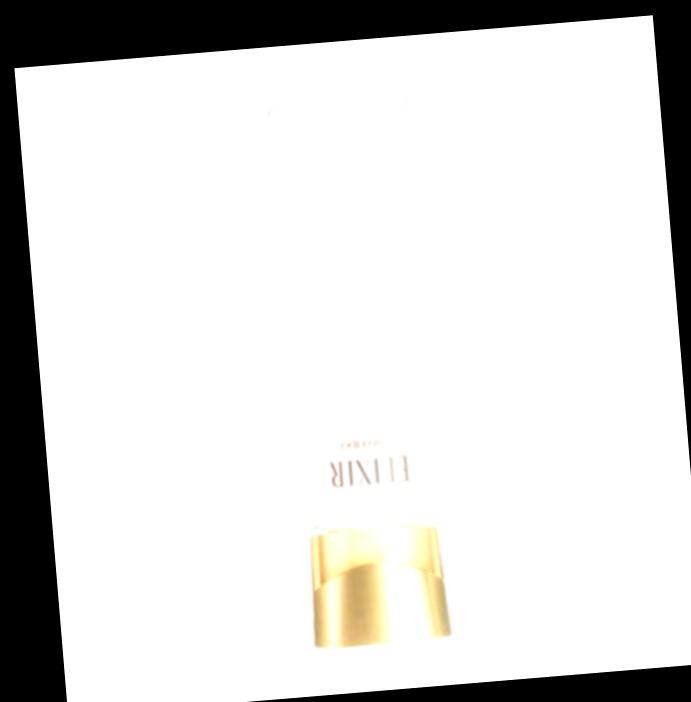cosmetic: (264, 86, 450, 651)
